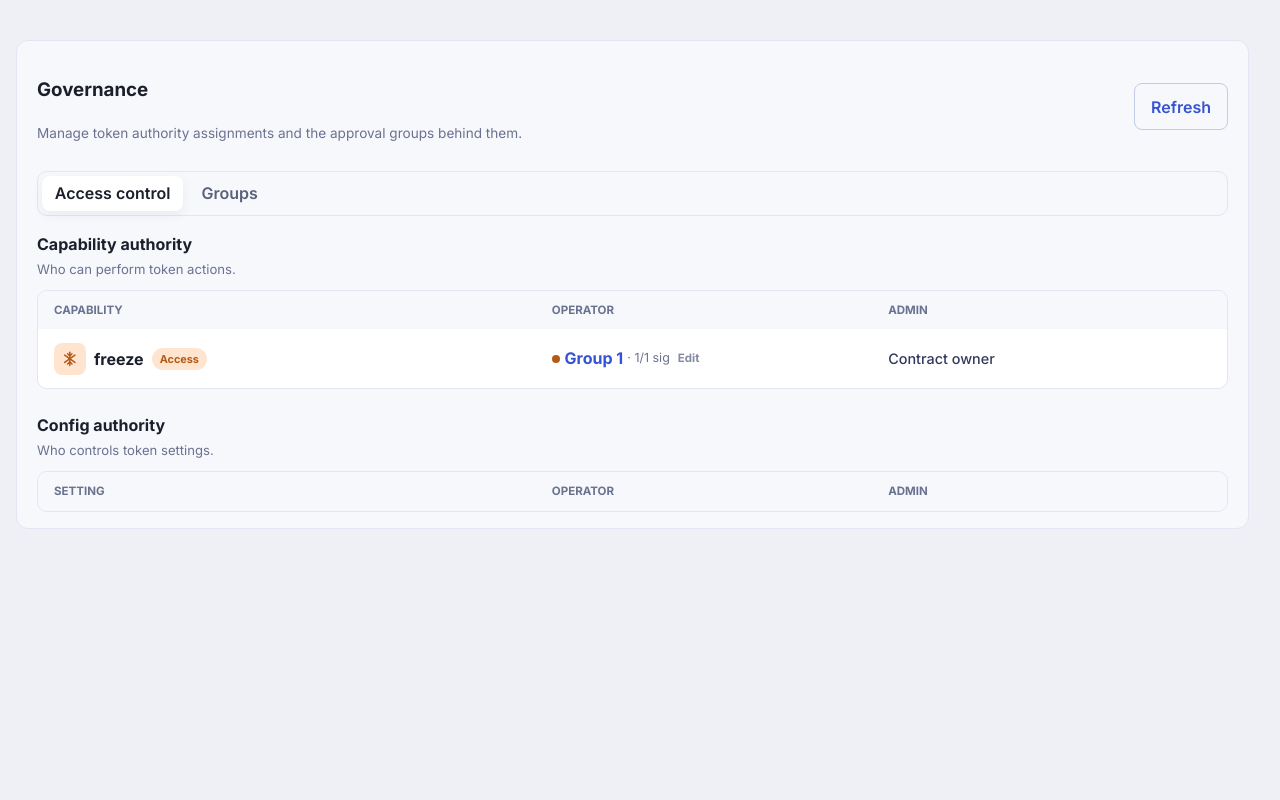
GovernanceView › lets signed-out visitors inspect reassignment without submitting
Click the button "Edit" at (689, 359), box [675,349,703,368]
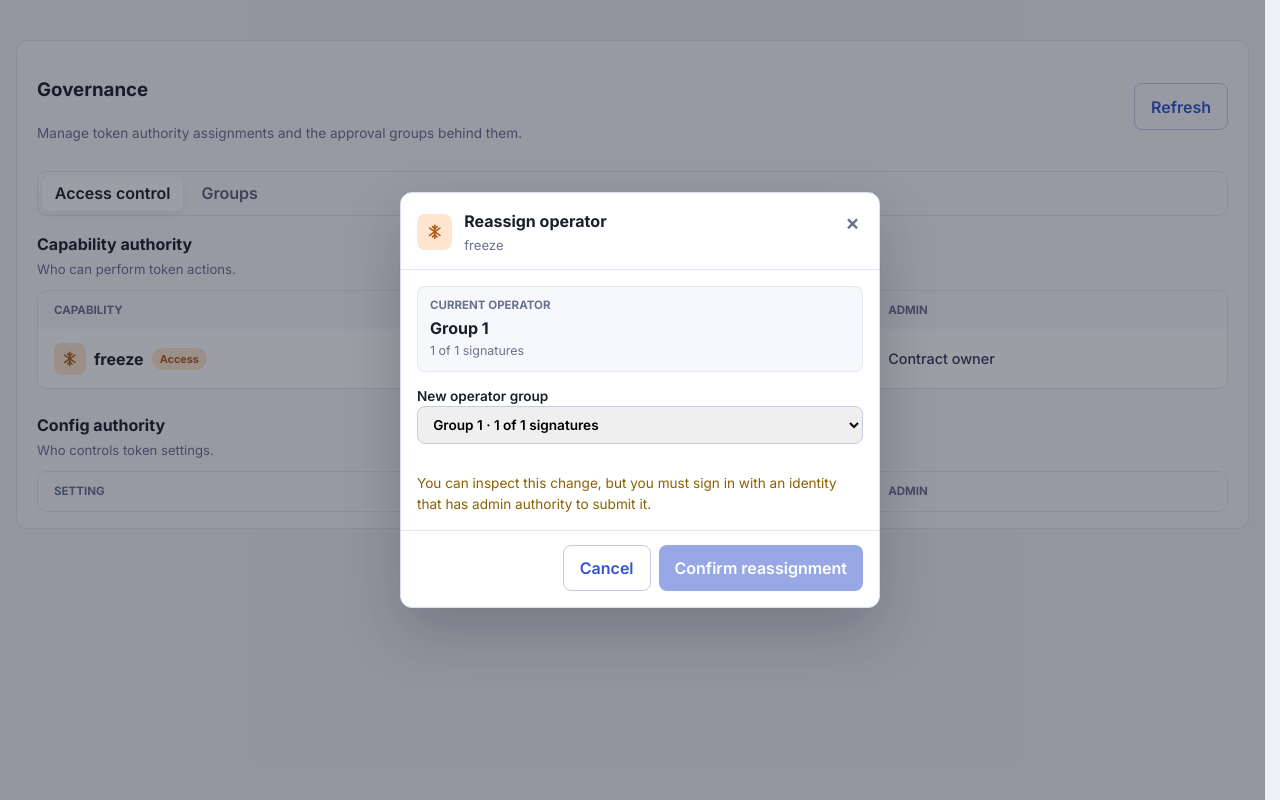
Expected: the text "must sign in with an identity that has admin authority" is shown, [417,475,837,512]
Expected: the button "Confirm reassignment" is disabled, [658,545,863,591]
